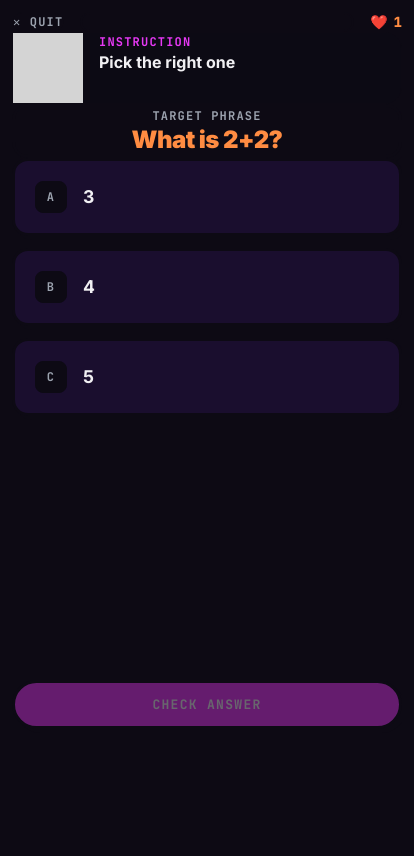
it: LessonRunner — lives and failure › shows lesson failed screen when last life is lost
This screenshot has width=414, height=856.
What coordinates should you click on to do the following:
click the text "3"
I would click on:
 (89, 196)
Its box is [83, 186, 94, 207].
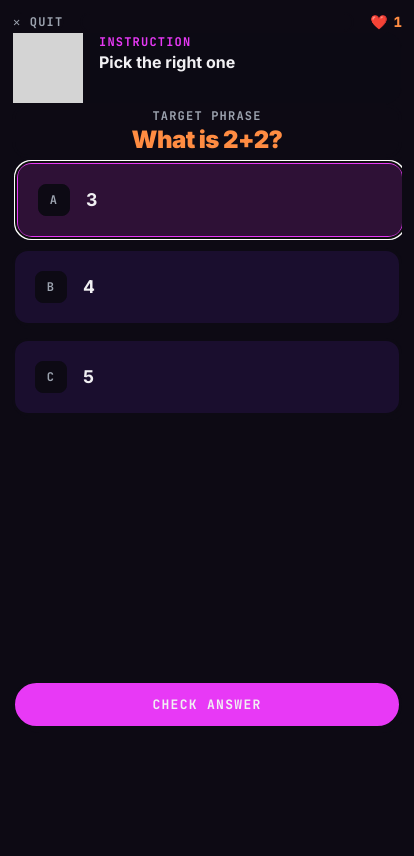
What coordinates should you click on to do the following:
click the button "CHECK ANSWER"
I would click on:
 (207, 705)
Its box is [12, 680, 402, 729].
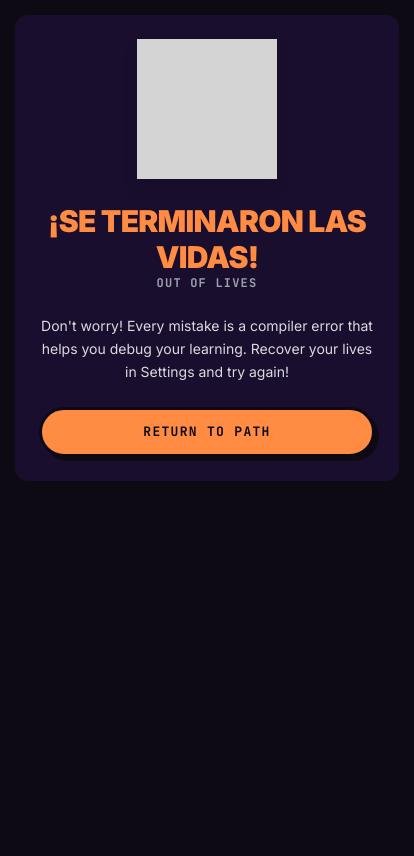
Check: the heading "¡SE TERMINARON LAS VIDAS!" is shown, box [39, 203, 375, 275]
